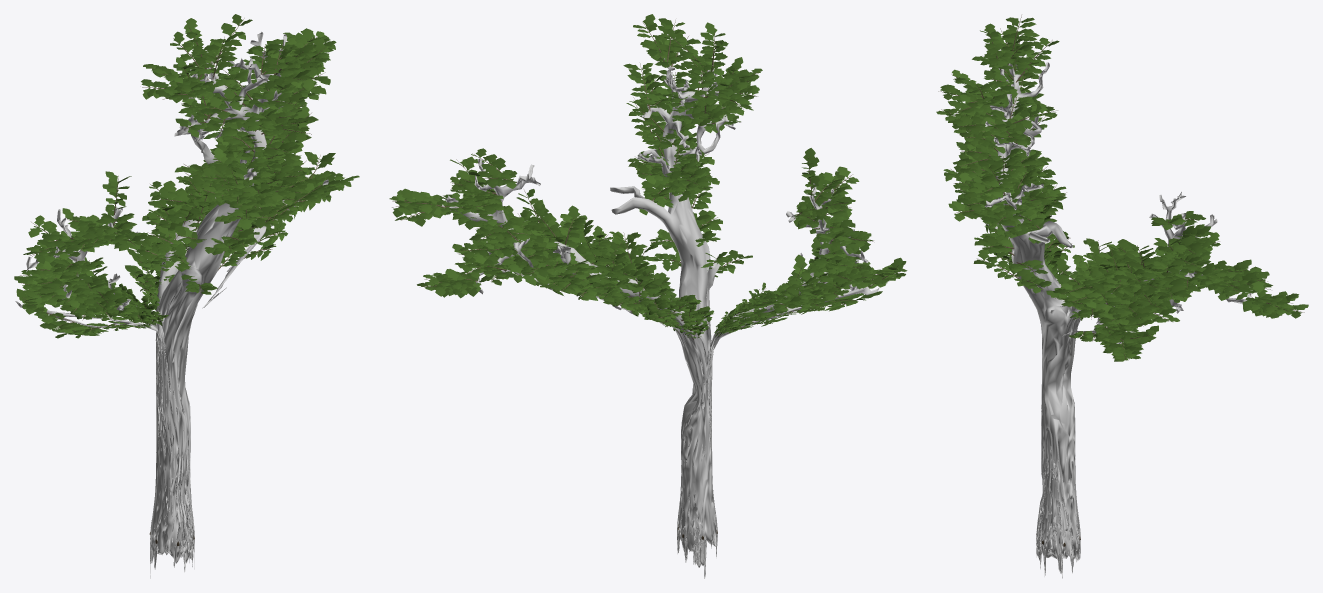
Rendered from bog-oak-worked-lod0.gltf.
3 views of the same model, side by side, from view 1: azimuth 30°, elevation 25°; view 2: azimuth 150°, elevation 25°; view 3: azimuth 270°, elevation 25° (orthographic). The views are drawn at different scales.
Parts seen in each view (by area): view 1: worked bog-oak-0-2, worked bog-oak-0-0, worked bog-oak-0-1; view 2: worked bog-oak-0-2, worked bog-oak-0-0, worked bog-oak-0-1; view 3: worked bog-oak-0-2, worked bog-oak-0-0, worked bog-oak-0-1.
Part boxes in pixels (left/top/right/bottom): worked bog-oak-0-2: left=14, top=14, right=359, bottom=338; worked bog-oak-0-0: left=15, top=31, right=328, bottom=578; worked bog-oak-0-1: left=20, top=18, right=325, bottom=331; worked bog-oak-0-2: left=389, top=14, right=907, bottom=338; worked bog-oak-0-0: left=442, top=58, right=879, bottom=578; worked bog-oak-0-1: left=392, top=20, right=900, bottom=339; worked bog-oak-0-2: left=936, top=17, right=1308, bottom=361; worked bog-oak-0-0: left=980, top=62, right=1257, bottom=578; worked bog-oak-0-1: left=938, top=15, right=1304, bottom=360.
Size of the model in its own units: 6.86 by 8.57 by 5.12.
